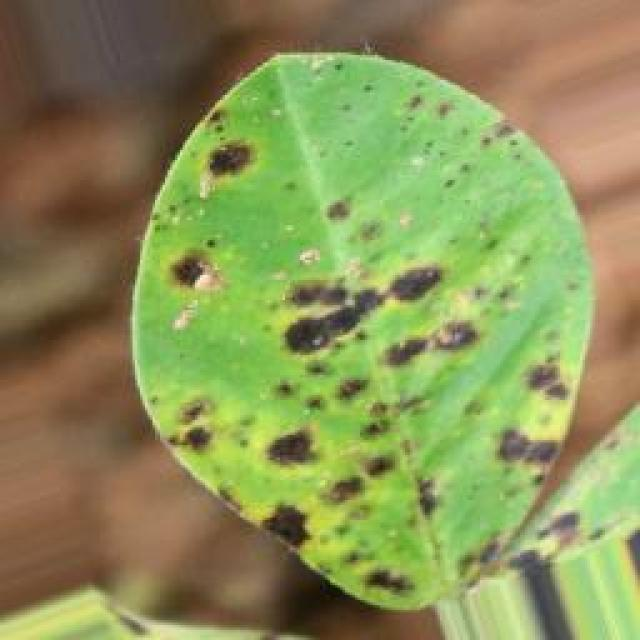Yellowish: (135, 44, 578, 594)
